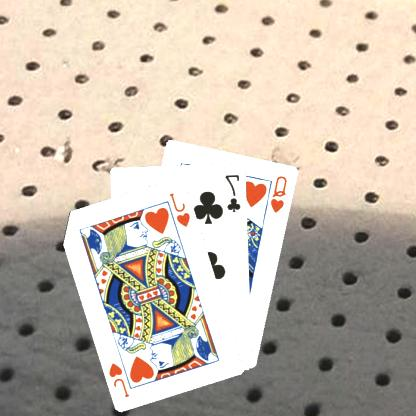7C: (224, 171, 244, 213)
JH: (108, 359, 133, 399), (168, 190, 194, 228)
QH: (269, 173, 291, 214)
